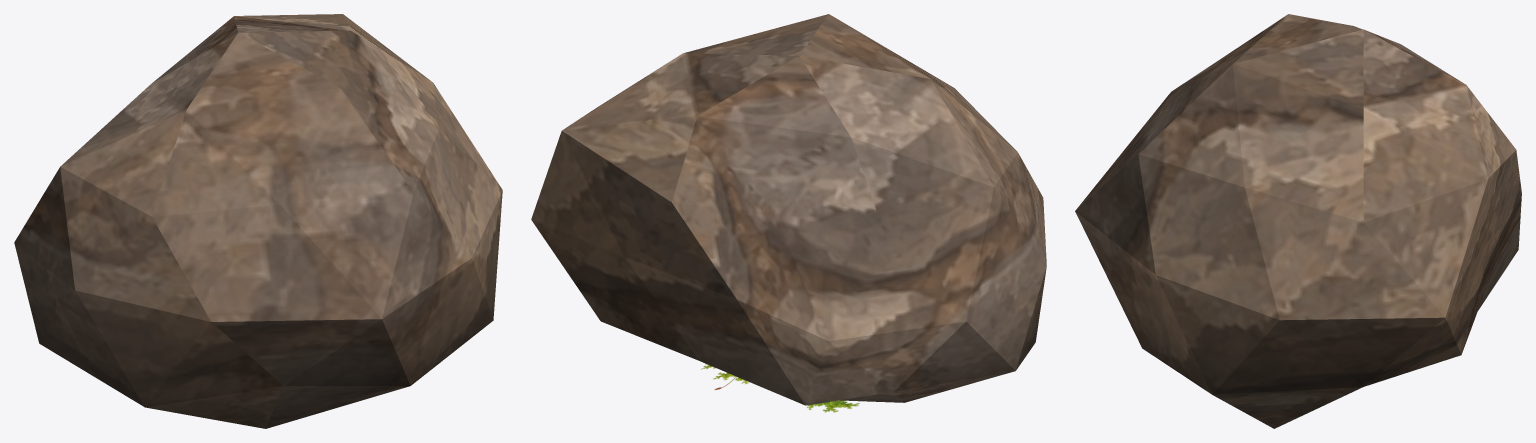
Rendered from rock-shore-1.glb.
3 views of the same model, side by side, from view 1: azimuth 30°, elevation 25°; view 2: azimuth 150°, elevation 25°; view 3: azimuth 270°, elevation 25° (orthographic). The views are drawn at different scales.
Parts seen in each view (by area): view 1: rock-shore-1; view 2: rock-shore-1, rock-shore-1-moss1; view 3: rock-shore-1.
Part boxes in pixels (bbox=[...]): rock-shore-1: bbox=[14, 14, 502, 428]; rock-shore-1: bbox=[531, 14, 1046, 405]; rock-shore-1-moss1: bbox=[701, 363, 859, 412]; rock-shore-1: bbox=[1075, 14, 1521, 428].
Bounding box in the file's own units: 1.98 × 1.55 × 1.79.
2 materials, 2 textured.
